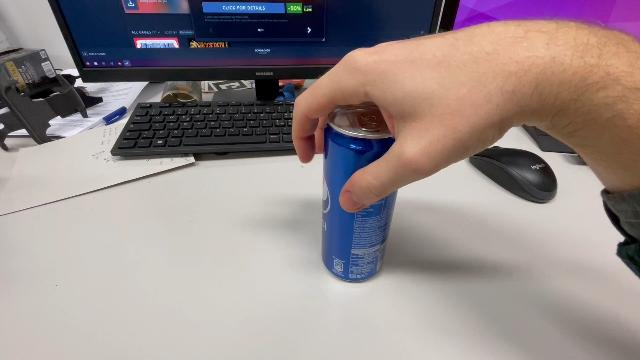Pepsi: (320, 96, 400, 284)
